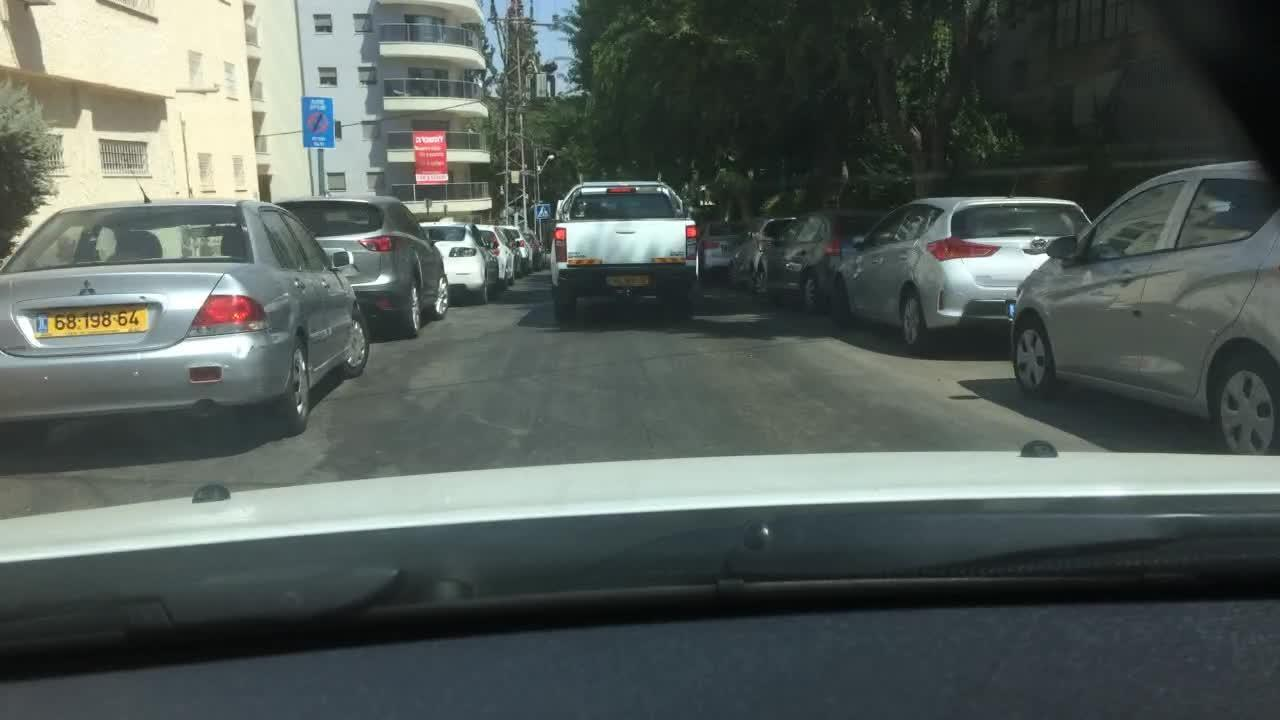Mitsubishi: (70, 272, 103, 304)
Toyota: (1026, 233, 1046, 251)
